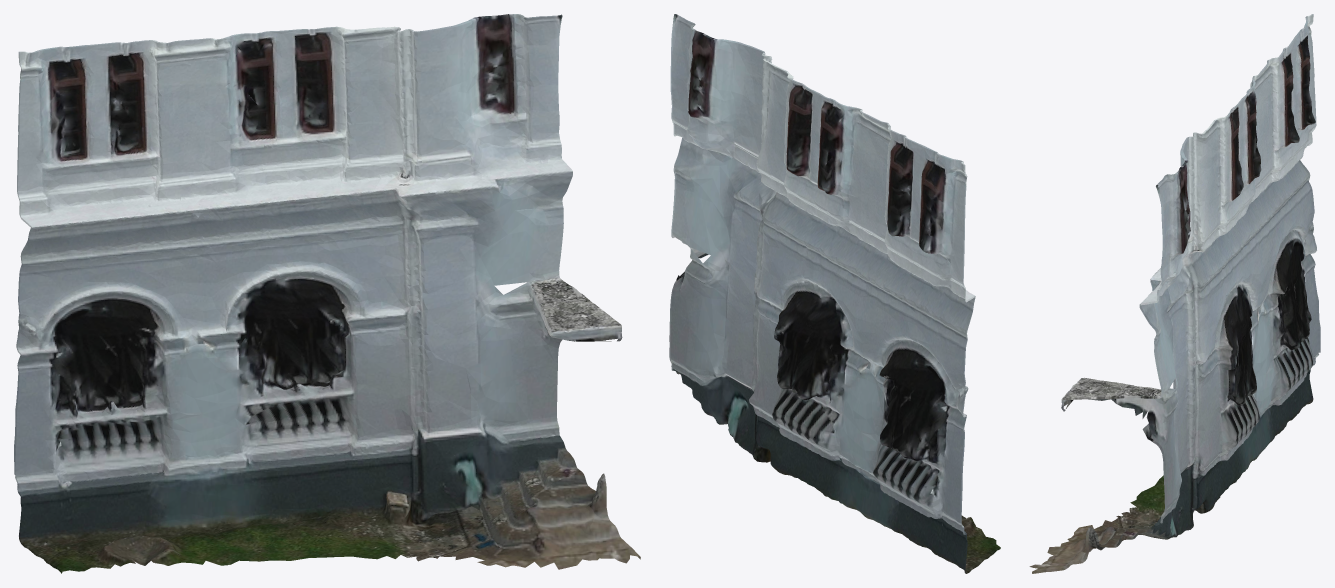
The picture shows the model from 3 angles, left to right: view 1: azimuth 30°, elevation 25°; view 2: azimuth 150°, elevation 25°; view 3: azimuth 270°, elevation 25°; orthographic projection. The views are drawn at different scales.
Parts seen in each view (by area): view 1: node_51; view 2: node_51; view 3: node_51.
Part boxes in pixels (x1,y1,x2,y2): node_51: (14, 14, 640, 573); node_51: (669, 14, 1000, 573); node_51: (1029, 14, 1320, 573).
Size of the model in its own units: 8.21 by 8.69 by 5.86.
1 material, 1 textured.
